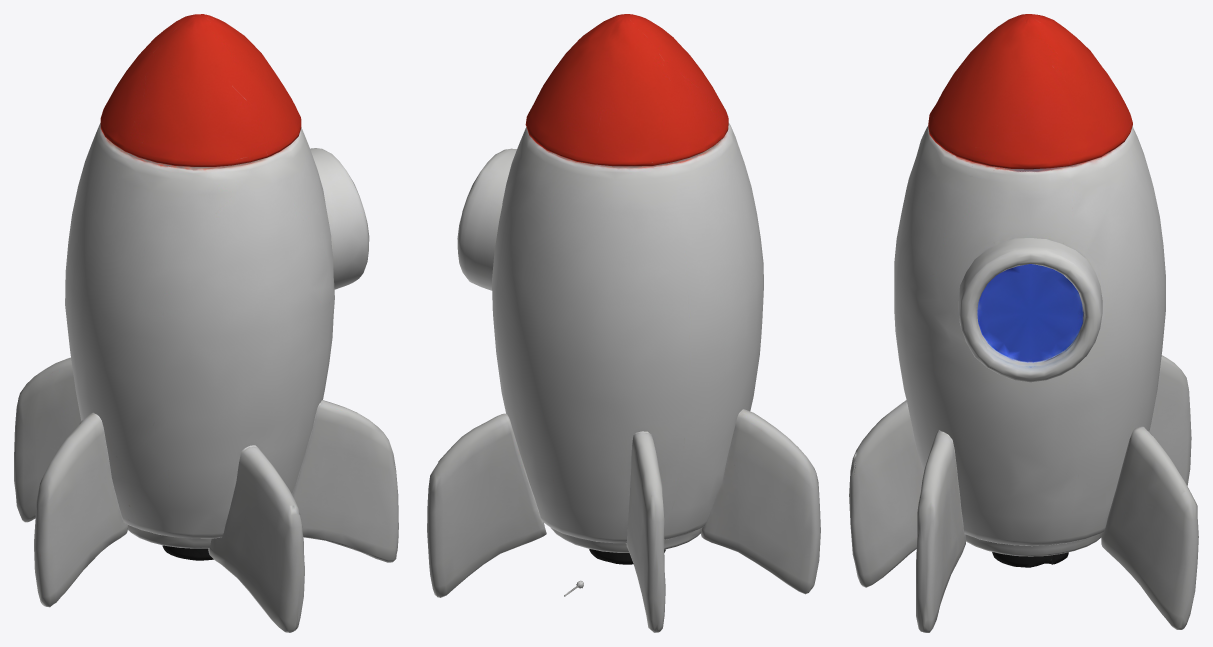
The model's file is rocket.glb.
The picture shows the model from 3 angles, left to right: view 1: azimuth 30°, elevation 25°; view 2: azimuth 150°, elevation 25°; view 3: azimuth 270°, elevation 25°; orthographic projection.
Parts seen in each view (by area): view 1: tripo_node_2a8be4f6-755a-484d-aef8-9bbe328b65ca; view 2: tripo_node_2a8be4f6-755a-484d-aef8-9bbe328b65ca; view 3: tripo_node_2a8be4f6-755a-484d-aef8-9bbe328b65ca.
Part boxes in pixels (<box>): tripo_node_2a8be4f6-755a-484d-aef8-9bbe328b65ca: <box>14,14,398,632</box>; tripo_node_2a8be4f6-755a-484d-aef8-9bbe328b65ca: <box>427,14,820,632</box>; tripo_node_2a8be4f6-755a-484d-aef8-9bbe328b65ca: <box>849,14,1198,632</box>.
Bounding box in the file's own units: 0.6074 × 0.998 × 0.5605.
Materials: 1 (1 with a texture image).
